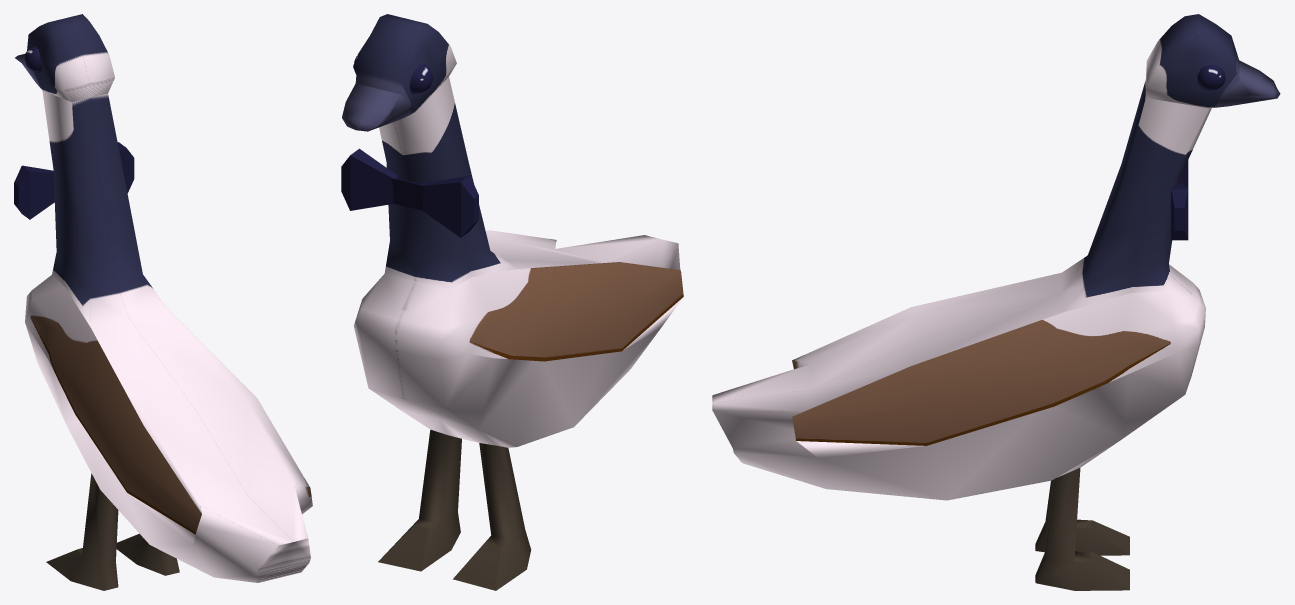
Rendered from Henk.fbx.
3 views of the same model, side by side, from view 1: azimuth 30°, elevation 25°; view 2: azimuth 150°, elevation 25°; view 3: azimuth 270°, elevation 25° (orthographic). The views are drawn at different scales.
Visible parts, largest first — view 1: Henk, Henk Head; view 2: Henk, Henk Head; view 3: Henk, Henk Head.
Boxes of the visible parts, box(x1,y1,x2,y2) form: Henk: box(14, 90, 312, 590); Henk Head: box(15, 14, 114, 101); Henk: box(341, 77, 683, 590); Henk Head: box(342, 14, 456, 131); Henk: box(712, 79, 1211, 590); Henk Head: box(1146, 14, 1280, 108).
Size of the model in its own units: 17.66 by 61.78 by 58.85.
